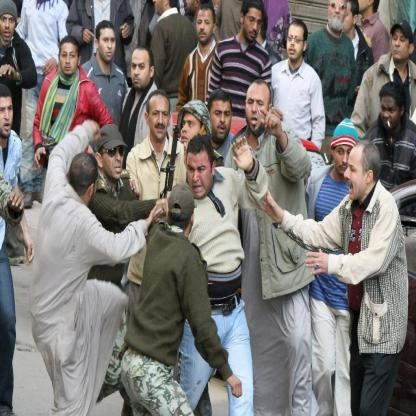face: (187, 153, 212, 199), (344, 153, 367, 201), (247, 87, 269, 133), (149, 99, 170, 140), (210, 102, 232, 141), (104, 142, 125, 180), (181, 115, 202, 153), (244, 6, 263, 42), (132, 54, 150, 91), (287, 25, 304, 60), (382, 97, 400, 130), (335, 145, 354, 176), (100, 30, 117, 63), (60, 45, 78, 75), (329, 1, 347, 31), (392, 31, 410, 61), (1, 98, 14, 139), (198, 12, 214, 43), (1, 13, 17, 42), (341, 2, 354, 33), (154, 2, 166, 16), (187, 1, 197, 13)
